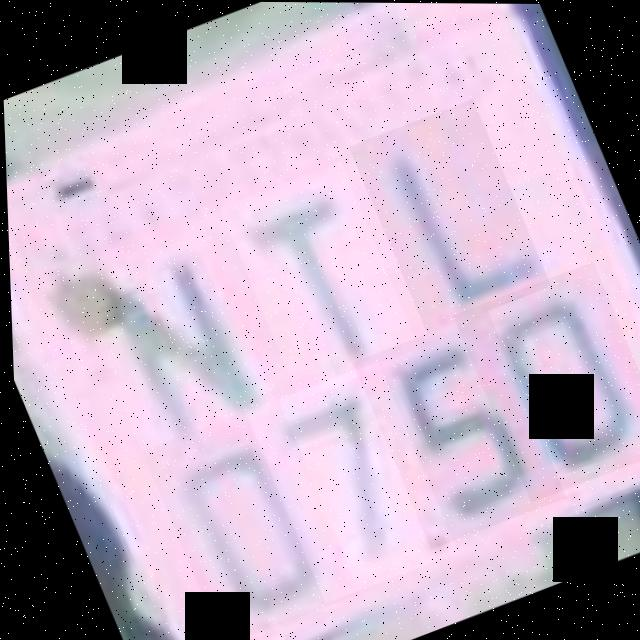0: (137, 398, 357, 640), (448, 260, 640, 503)
5: (348, 309, 564, 549)
7: (240, 360, 455, 603)
J: (346, 97, 551, 334)
N: (66, 224, 276, 460)
T: (217, 160, 421, 400)
